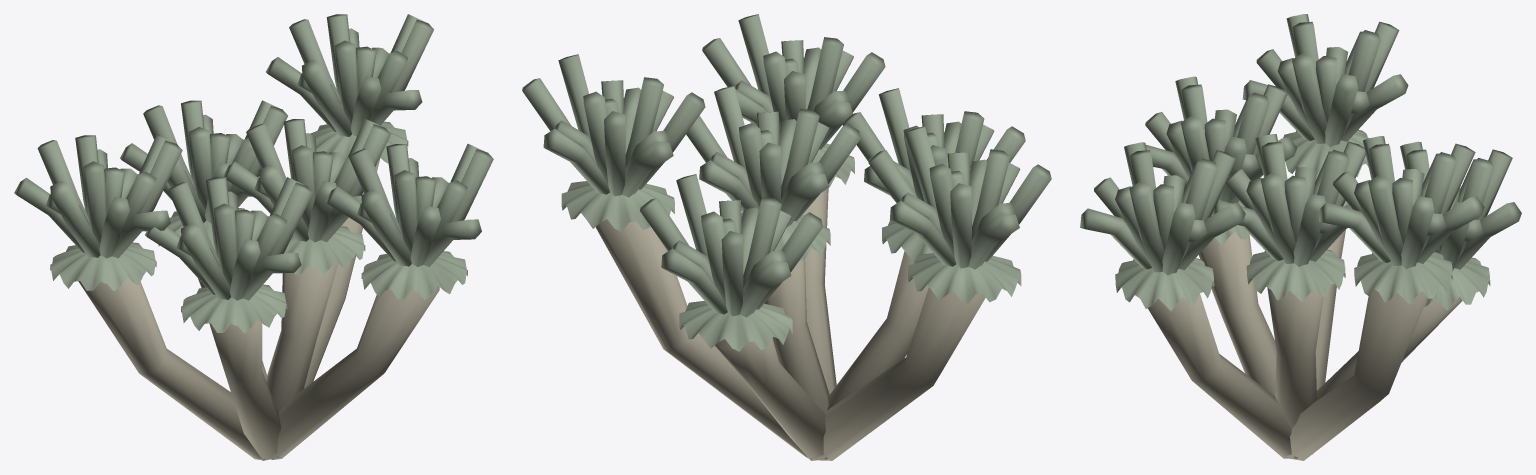
File: duncan-mobile.glb
3 renders of one model, left to right at view 1: azimuth 30°, elevation 25°; view 2: azimuth 150°, elevation 25°; view 3: azimuth 270°, elevation 25°, orthographic. The views are drawn at different scales.
Parts seen in each view (by area): view 1: fleshy-tentacle, branching-corallum; view 2: fleshy-tentacle, branching-corallum; view 3: fleshy-tentacle, branching-corallum.
Part boxes in pixels (x1,y1,x2,y2): fleshy-tentacle: [14, 14, 493, 333]; branching-corallum: [78, 158, 439, 460]; fleshy-tentacle: [522, 14, 1051, 351]; branching-corallum: [595, 188, 985, 460]; fleshy-tentacle: [1080, 14, 1521, 310]; branching-corallum: [1148, 167, 1462, 460].
Bounding box in the file's own units: 0.5972 × 0.4688 × 0.4988.
